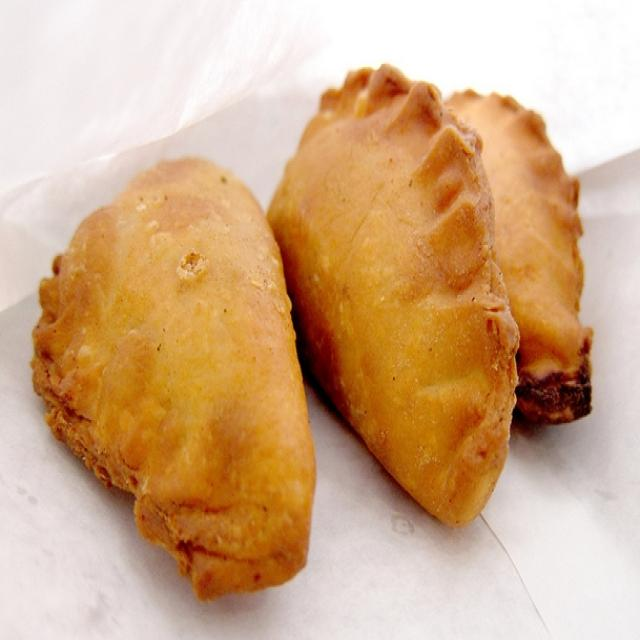炸货点心: (25, 53, 601, 612)
